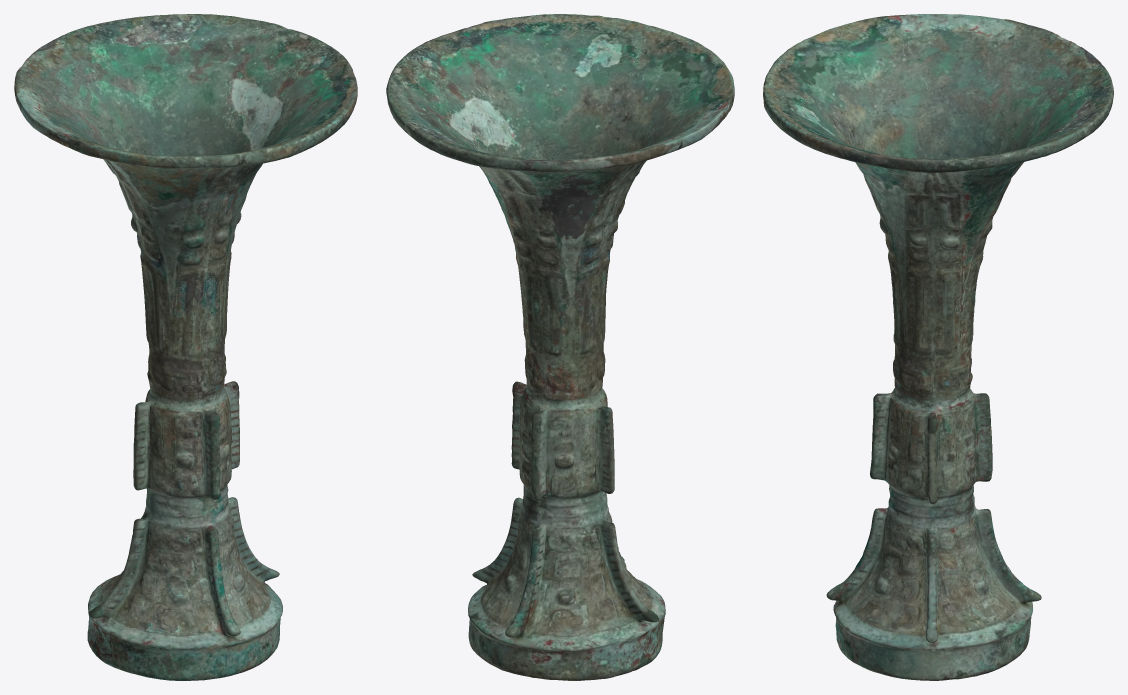
3 views of the same model, side by side, from view 1: azimuth 30°, elevation 25°; view 2: azimuth 150°, elevation 25°; view 3: azimuth 270°, elevation 25° (orthographic).
Visible parts, largest first — view 1: Object_2; view 2: Object_2; view 3: Object_2.
Part boxes in pixels (<box>): Object_2: <box>14,14,357,680</box>; Object_2: <box>386,14,734,680</box>; Object_2: <box>763,14,1113,680</box>.
Size of the model in its own units: 0.1677 by 0.2974 by 0.1691.
Materials: 1 (1 with a texture image).
